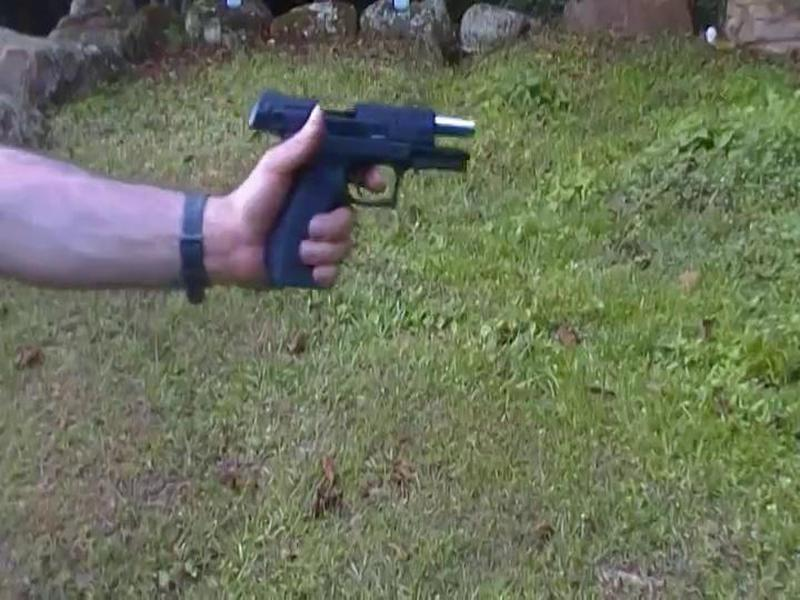Pistola: (223, 78, 497, 294)
